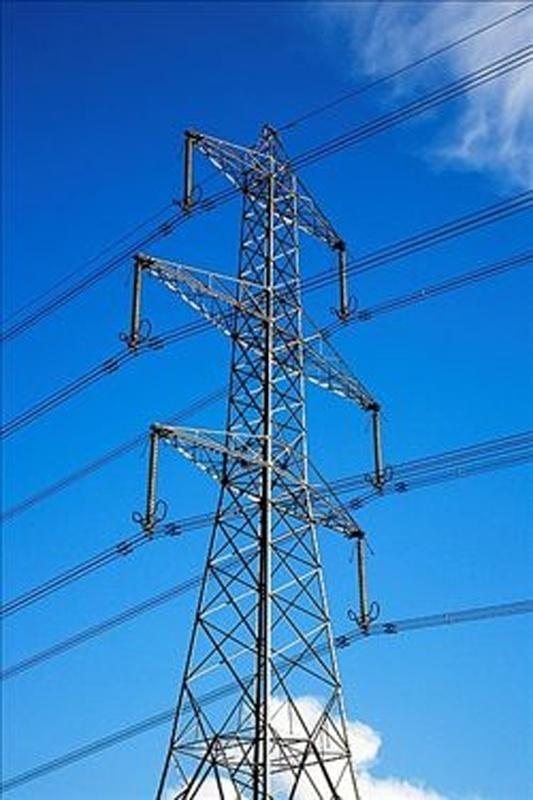power_tower: (123, 122, 386, 797)
